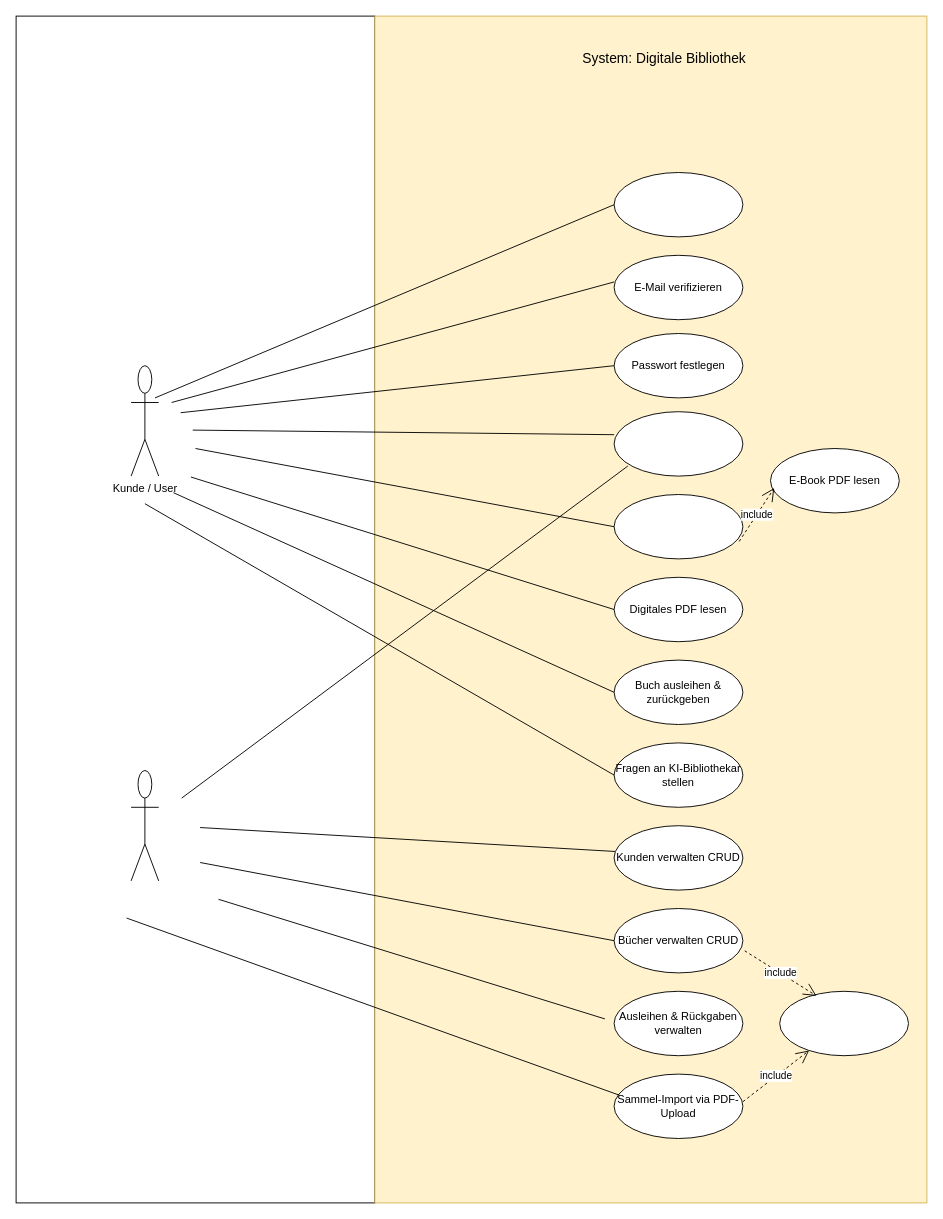
The diagram is 943 pixels wide and 1219 high, and some of its shapes have lost their labels. Each missing label, with the box of its shape:
Anmelden / Abmelden: (613, 411, 743, 476)
Eigene Ausleihen ansehen: (613, 494, 743, 559)
KI-Zusammenfassung & TOC generieren: (779, 990, 908, 1056)
Konto registrieren: (613, 172, 743, 237)
Mitarbeiter / Bibliothekar: (130, 770, 159, 881)
